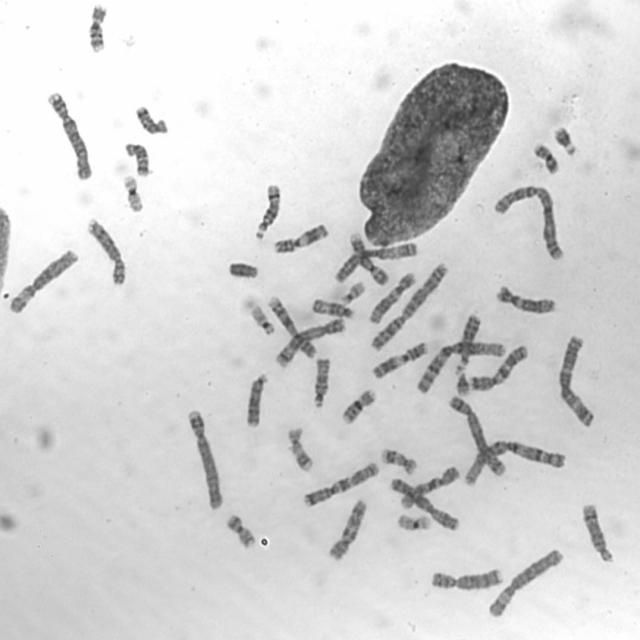A1: (462, 439, 566, 493), (416, 342, 506, 395)
A2: (370, 263, 450, 355), (489, 183, 567, 265)
A3: (552, 331, 604, 436), (334, 242, 419, 282)
B4: (46, 90, 97, 189), (186, 408, 224, 512)
B5: (448, 395, 508, 476), (276, 317, 345, 367)
C10: (398, 465, 461, 512), (330, 498, 370, 562)
C11: (372, 340, 429, 381), (274, 222, 329, 254)
C12: (370, 270, 418, 326), (493, 281, 559, 317)
C6: (488, 548, 564, 620), (8, 250, 82, 314)
C7: (304, 461, 378, 508), (469, 344, 528, 391)
C8: (84, 216, 126, 287), (431, 566, 503, 590)
C9: (267, 294, 318, 360), (346, 230, 390, 286)
D13: (244, 372, 269, 431), (459, 313, 482, 365)
D14: (576, 499, 614, 568), (254, 182, 282, 240)
D15: (312, 358, 331, 411), (313, 298, 353, 318)
E16: (341, 386, 376, 427), (86, 6, 110, 58)
E17: (284, 422, 314, 476), (380, 446, 418, 476)
E18: (133, 102, 169, 138), (124, 143, 150, 178)
F19: (120, 175, 144, 215), (396, 512, 434, 533)
F20: (222, 511, 256, 552), (532, 140, 560, 174)
G21: (555, 125, 580, 157), (453, 368, 470, 397)
G22: (249, 304, 275, 336), (343, 279, 365, 305)
X: (390, 478, 460, 532)
Y: (224, 259, 264, 283)
